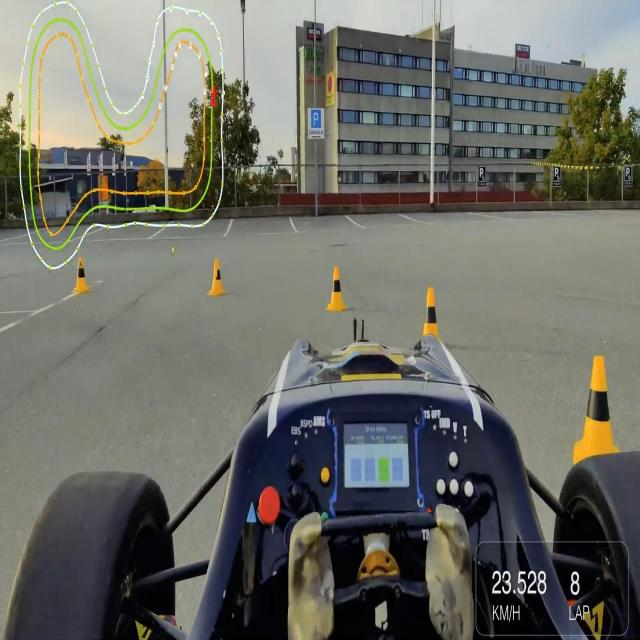yellow_cone: (566, 349, 622, 472), (421, 284, 442, 358), (322, 262, 348, 314), (206, 255, 226, 298), (71, 253, 91, 295)
